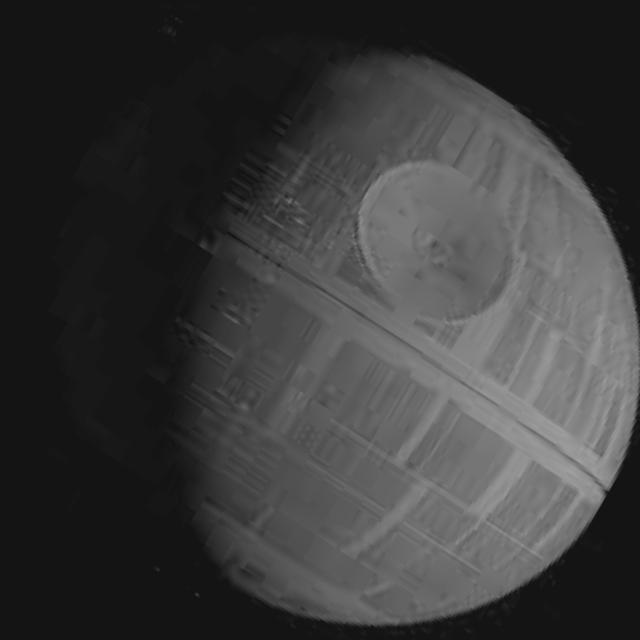death-stars: (112, 49, 634, 626)
